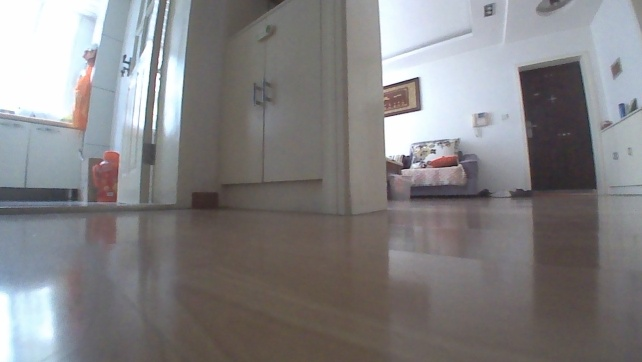cupboard: (0, 108, 85, 205)
door_anno: (114, 0, 173, 209), (521, 59, 599, 195)
sofa1: (400, 137, 479, 200)
